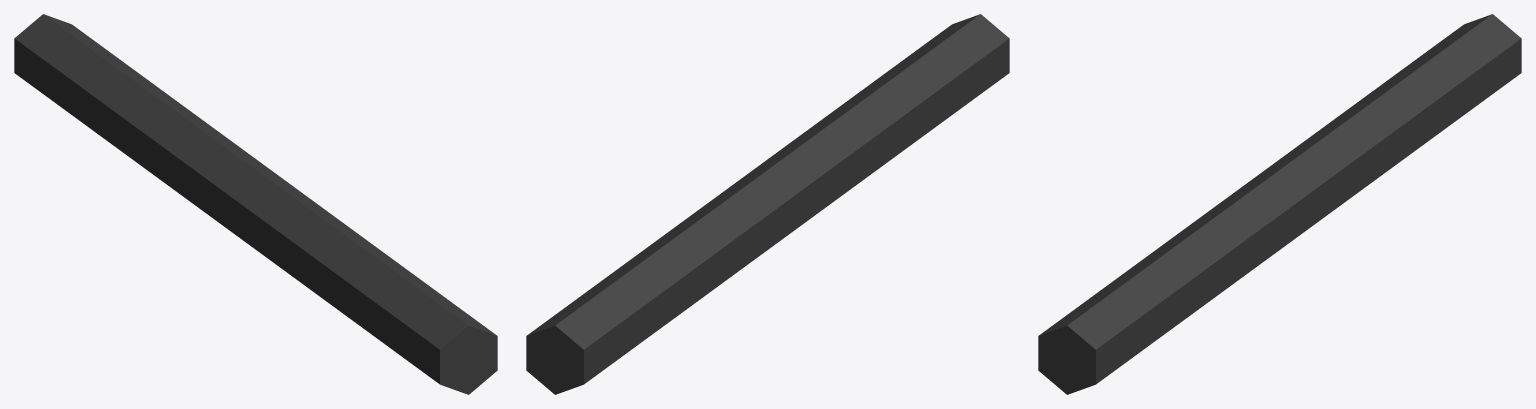
3 views of the same model, side by side, from view 1: azimuth 30°, elevation 25°; view 2: azimuth 150°, elevation 25°; view 3: azimuth 330°, elevation 25° (orthographic).
Parts seen in each view (by area): view 1: Pen; view 2: Pen; view 3: Pen.
Boxes of the visible parts, box(x1,y1,x2,y2) form: Pen: box(14, 14, 497, 394); Pen: box(526, 14, 1009, 394); Pen: box(1038, 14, 1521, 394).
Size of the model in its own units: 0.0156 by 0.018 by 0.2.
1 material, 1 textured.
